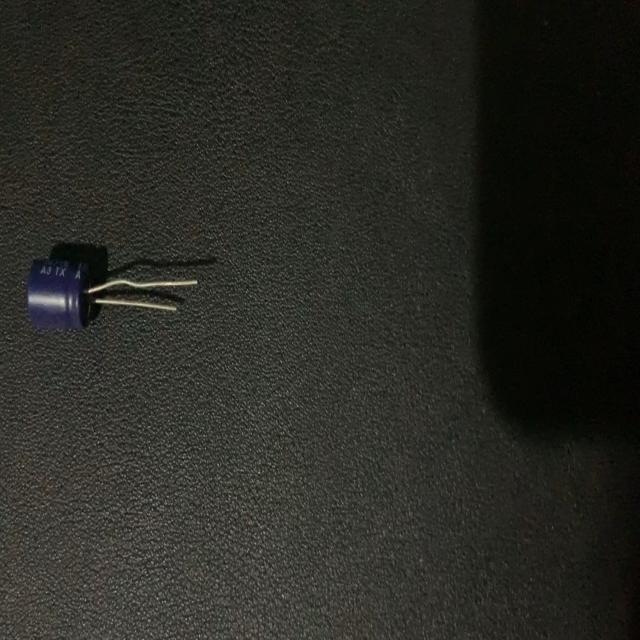capacitor: (26, 249, 200, 331)
